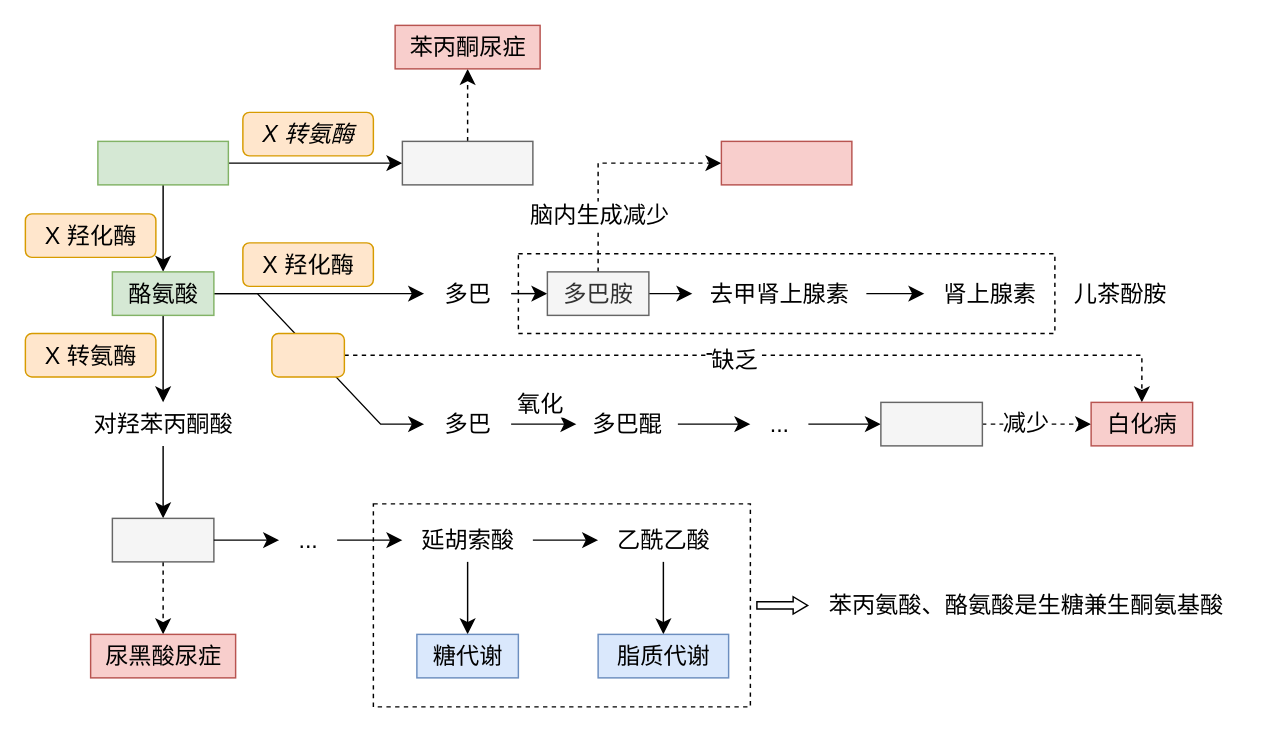
Image size: 1269x732. Some labels were removed from this diagram. The centre of each missing label's shape, as x and y in pixels:
"X 酶" goes at [307,354].
"尿黑酸" goes at [162,539].
"帕金森病" goes at [786,162].
"苯丙氨酸" goes at [162,162].
"苯丙酮酸" goes at [467,162].
"黑色素" goes at [930,423].
